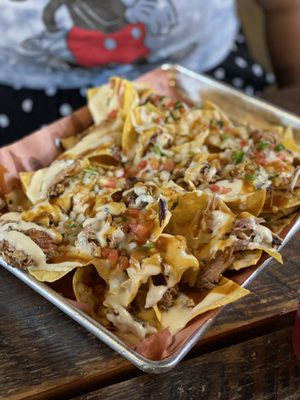sandwich: (0, 84, 298, 360)
